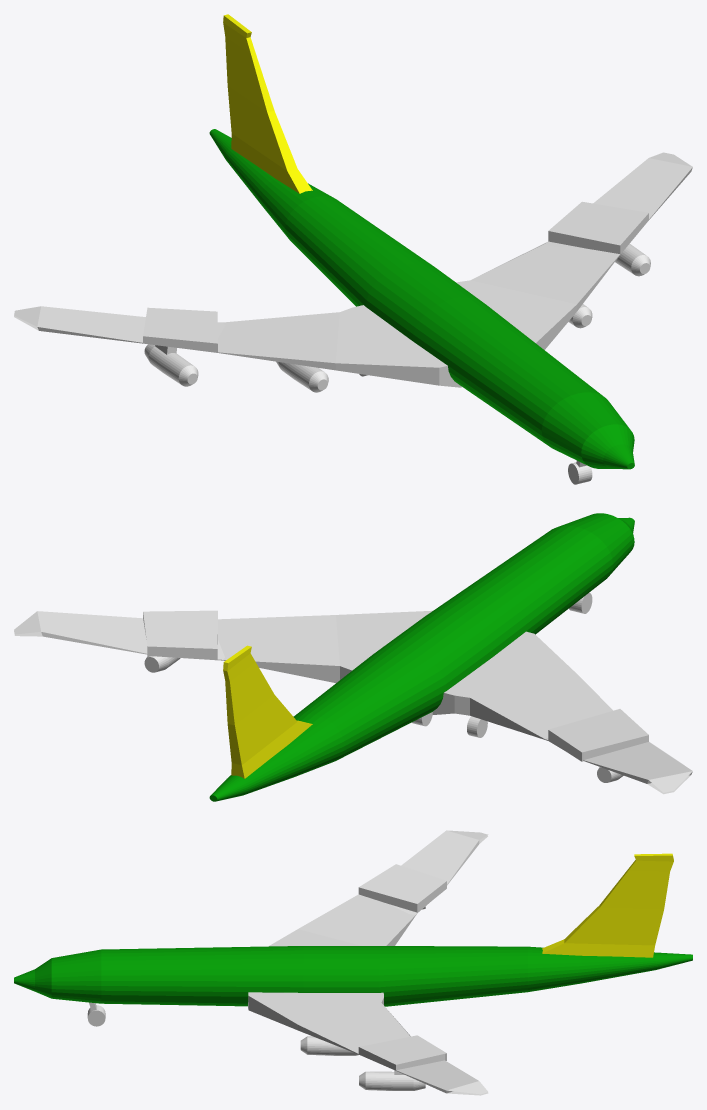
Rendered from Columbus778.fbx.
3 views of the same model, one above another, from view 1: azimuth 30°, elevation 25°; view 2: azimuth 150°, elevation 25°; view 3: azimuth 270°, elevation 25° (orthographic). The views are drawn at different scales.
Parts seen in each view (by area): view 1: Cube, Cylinder, Cube.001, Cylinder.007, Cylinder.009; view 2: Cube, Cylinder, Cube.001, Cylinder.007; view 3: Cylinder, Cube, Cube.001, Cylinder.007, Cylinder.009.
Boxes of the visible parts, <box> form: Cube: <box>14,152,692,387</box>; Cylinder: <box>209,129,634,469</box>; Cube.001: <box>223,14,312,193</box>; Cylinder.007: <box>144,243,650,386</box>; Cylinder.009: <box>276,304,592,392</box>; Cube: <box>14,610,692,794</box>; Cylinder: <box>209,513,634,801</box>; Cube.001: <box>223,645,312,778</box>; Cylinder.007: <box>144,656,623,782</box>; Cylinder: <box>14,946,692,1006</box>; Cube: <box>248,830,488,1095</box>; Cube.001: <box>542,853,673,957</box>; Cylinder.007: <box>359,906,425,1090</box>; Cylinder.009: <box>300,1036,358,1055</box>.
Size of the model in its own units: 290 by 87.43 by 318.
